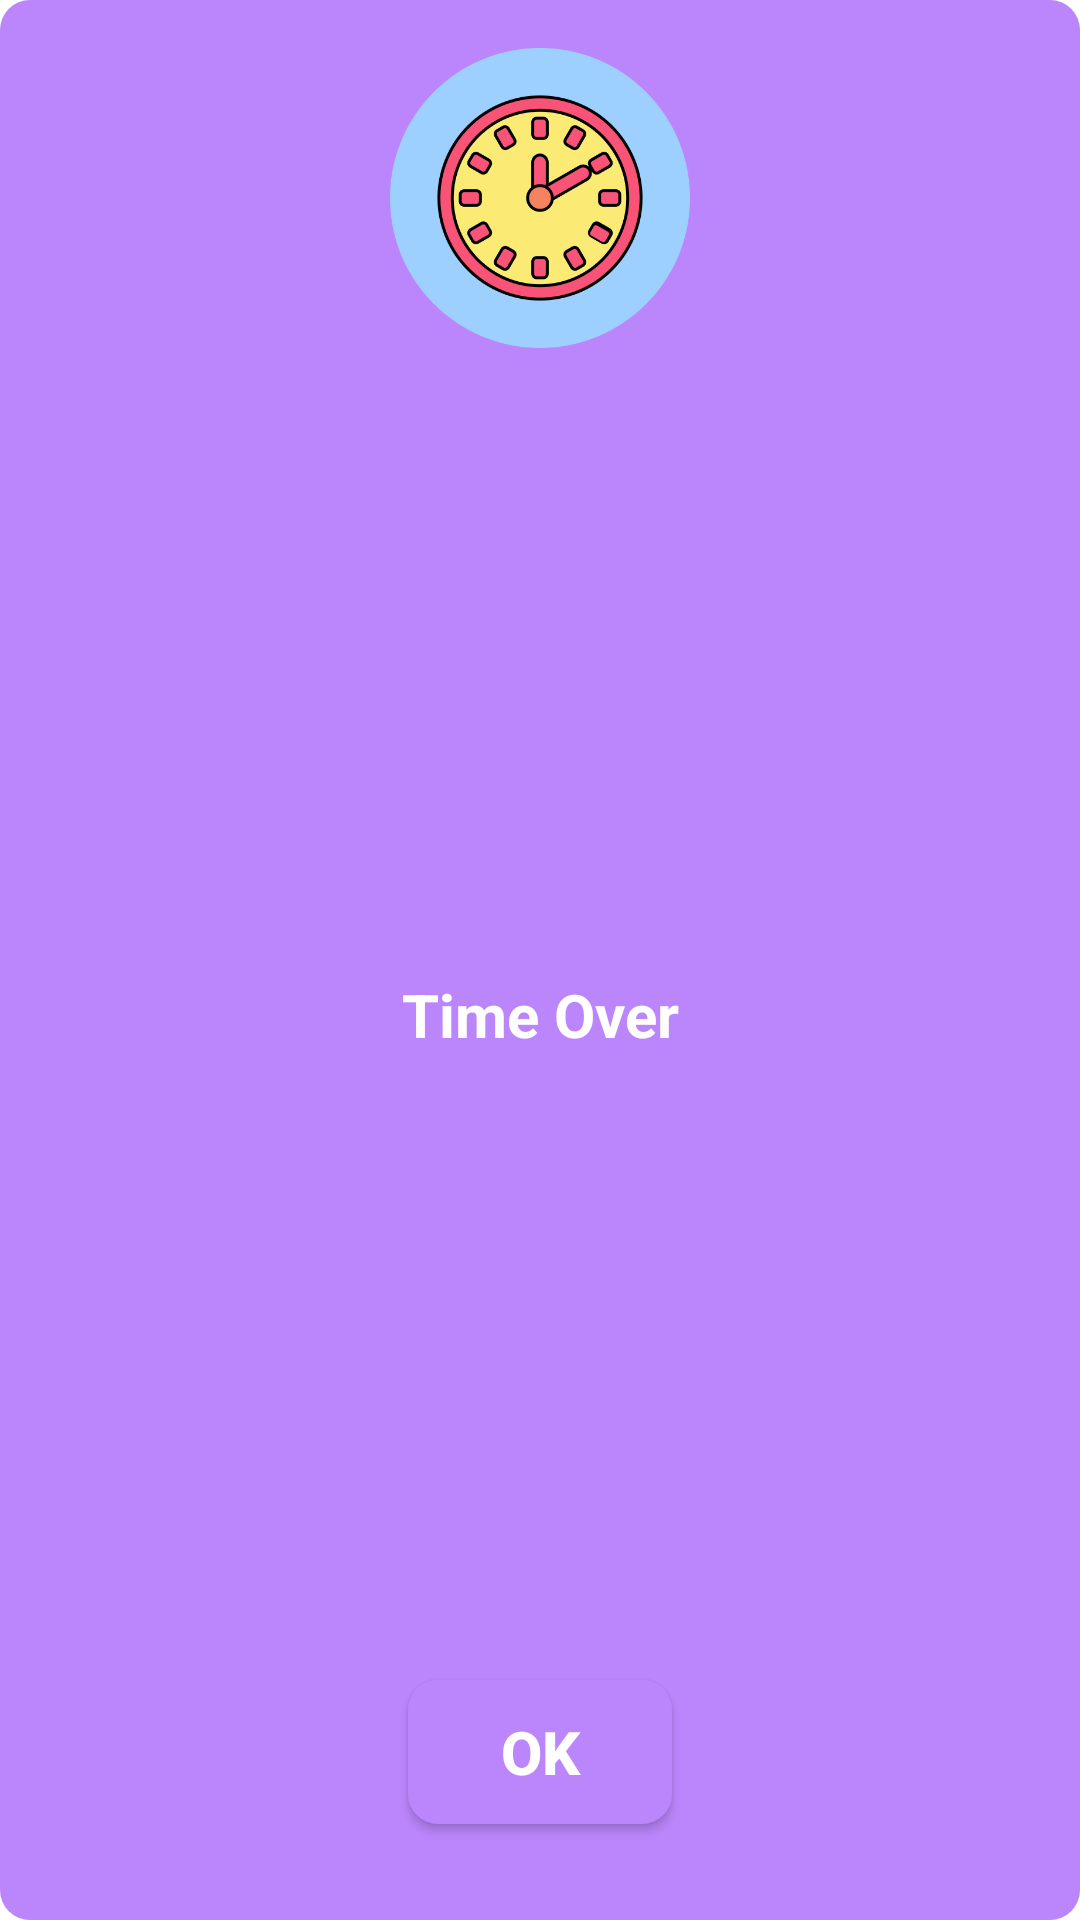

Icons on this 1080w x 1920h Android screen, each with its box as (x1, y1, x2, y2):
clock: (390, 48, 690, 348)
